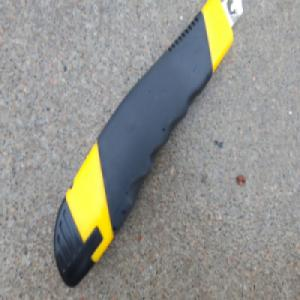Cutter: (52, 0, 247, 288)
